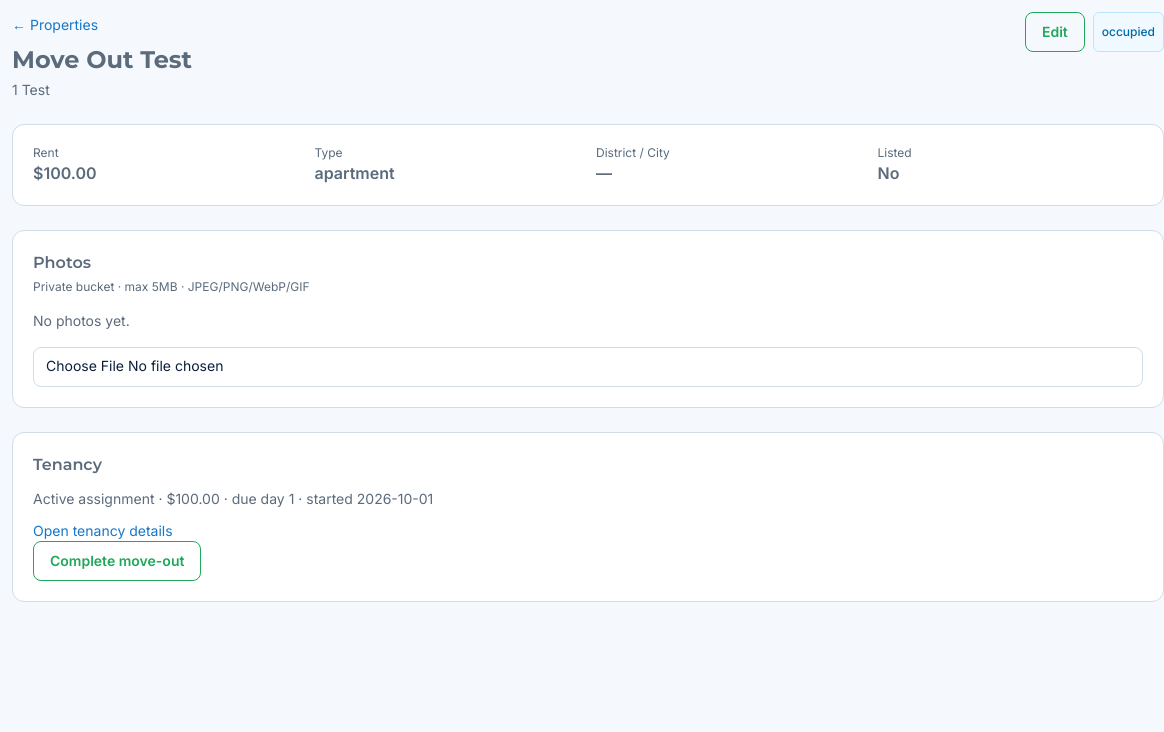
PropertyDetailPage move-out › disables Complete move-out while the RPC is in flight and reports success only once
Click the button "Complete move-out".
click(117, 561)  # box 33,541 -> 201,581
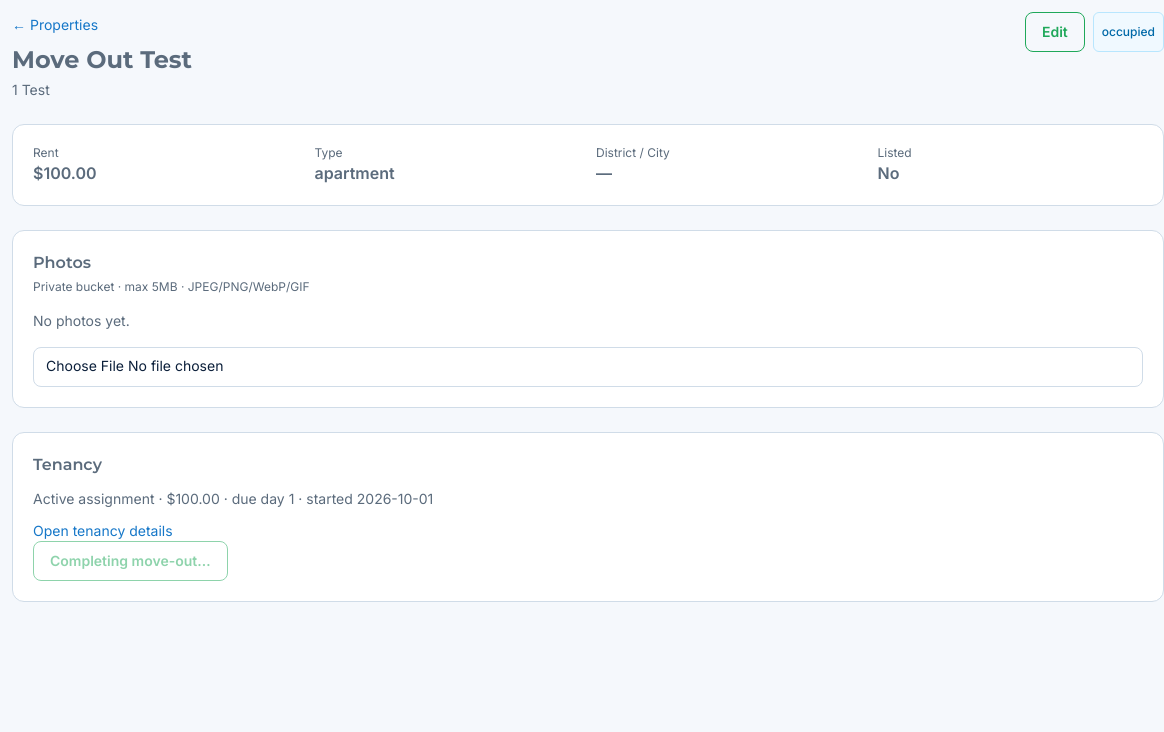
Result: the button "Completing move-out…" is disabled
Click the button "Completing move-out…".
click(130, 561)  # box 33,541 -> 228,581
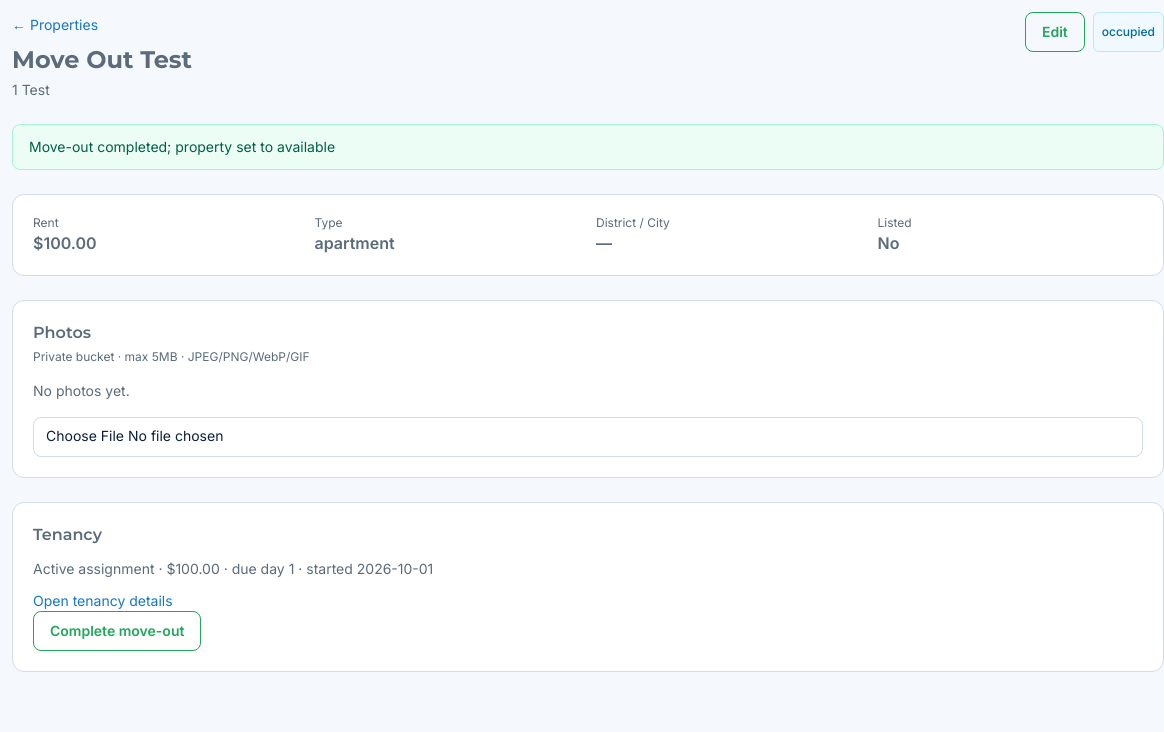
Result: the text "Move-out completed; property set to available" is shown at 12,124 -> 1163,170
